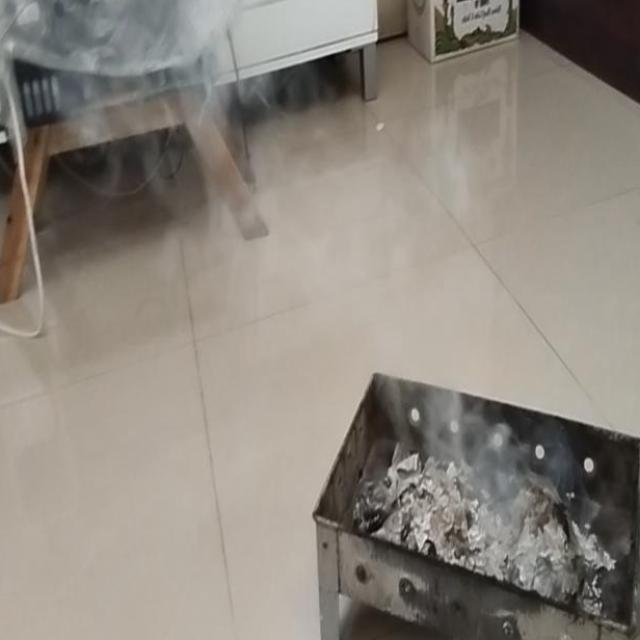fire: (198, 94, 368, 328), (372, 264, 517, 486)
